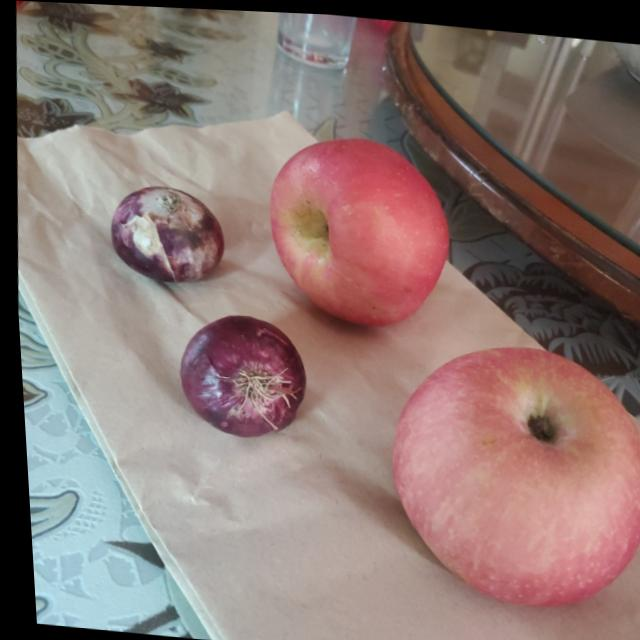apple: (381, 330, 640, 609), (255, 122, 454, 323)
onion: (172, 310, 308, 442), (105, 179, 227, 283)
